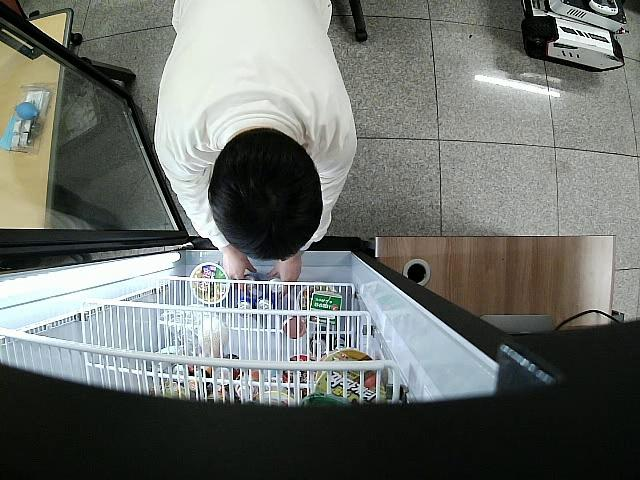00_hand: (221, 251, 259, 295), (265, 257, 301, 297)
